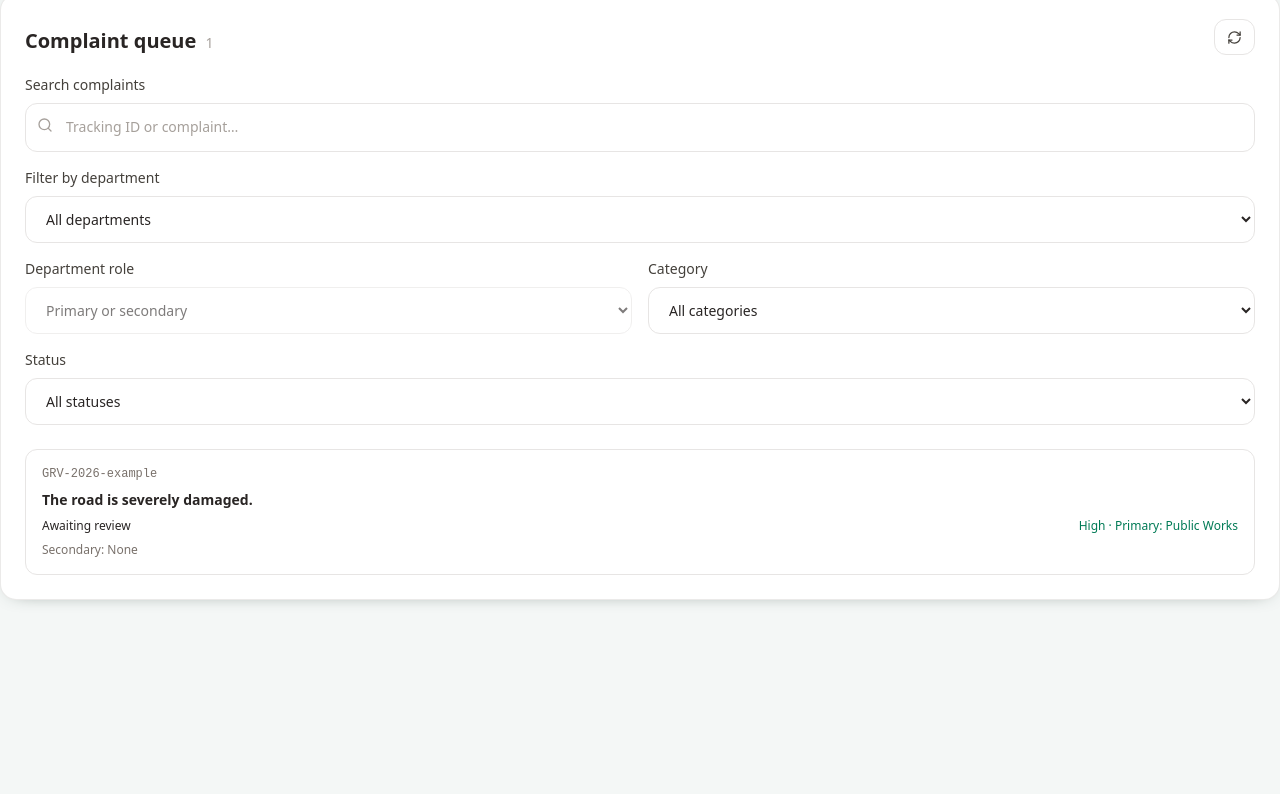
Test: approves routing with version and department then updates the queue
Click the button "GRV-2026-example".
click(640, 512)  # box [25,449,1255,575]
(page scrolled)
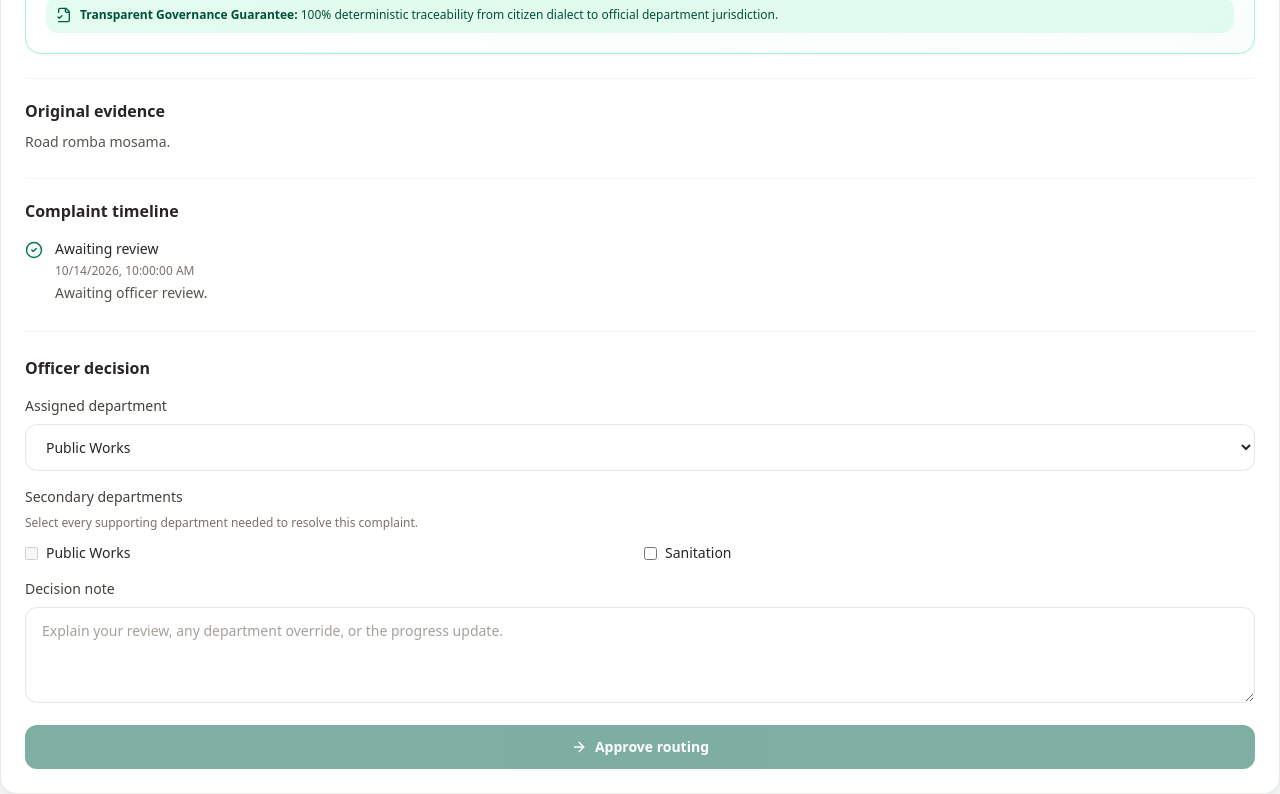
Type "Reviewed and approved road repair." into the text box labelled "Decision note".
click(640, 655); type("Reviewed and approved road repair.")  # box [25,607,1255,703]
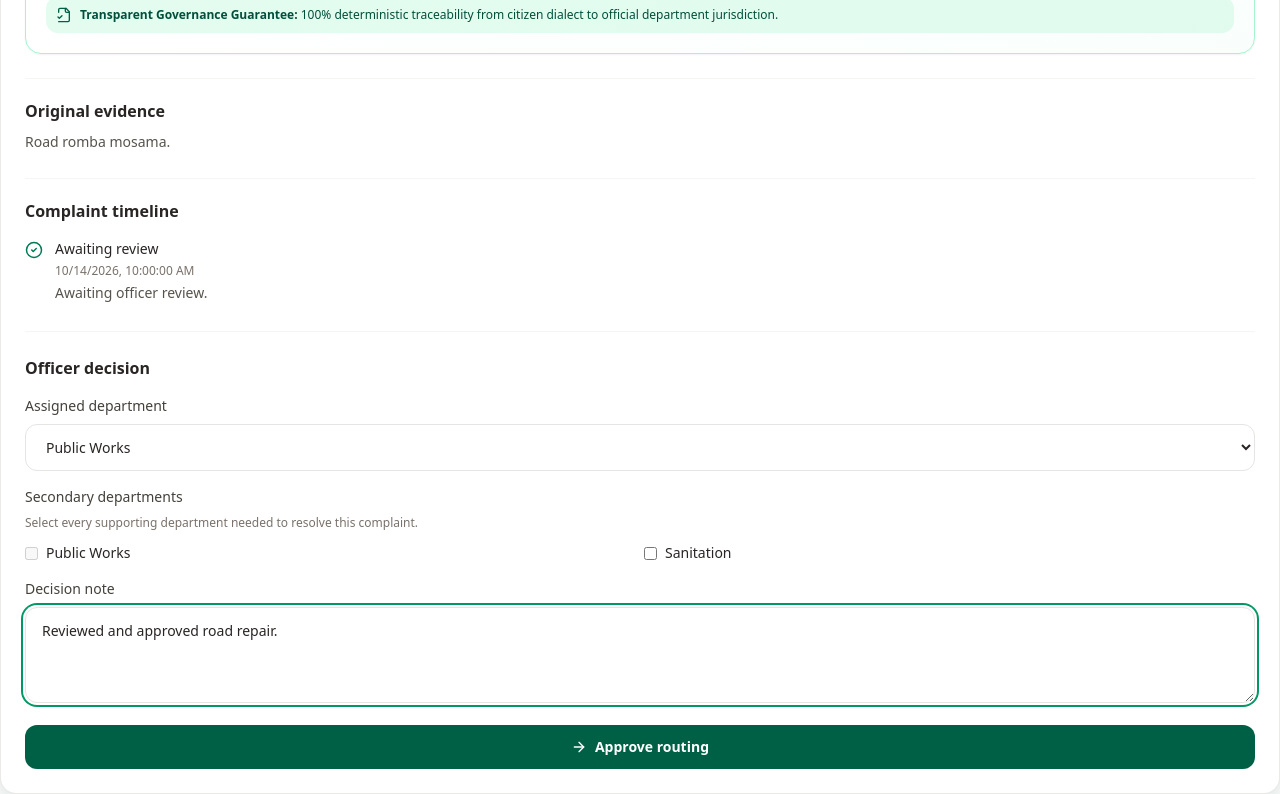
Click the button "Approve routing".
click(640, 747)  # box [25,725,1255,769]
(page scrolled)
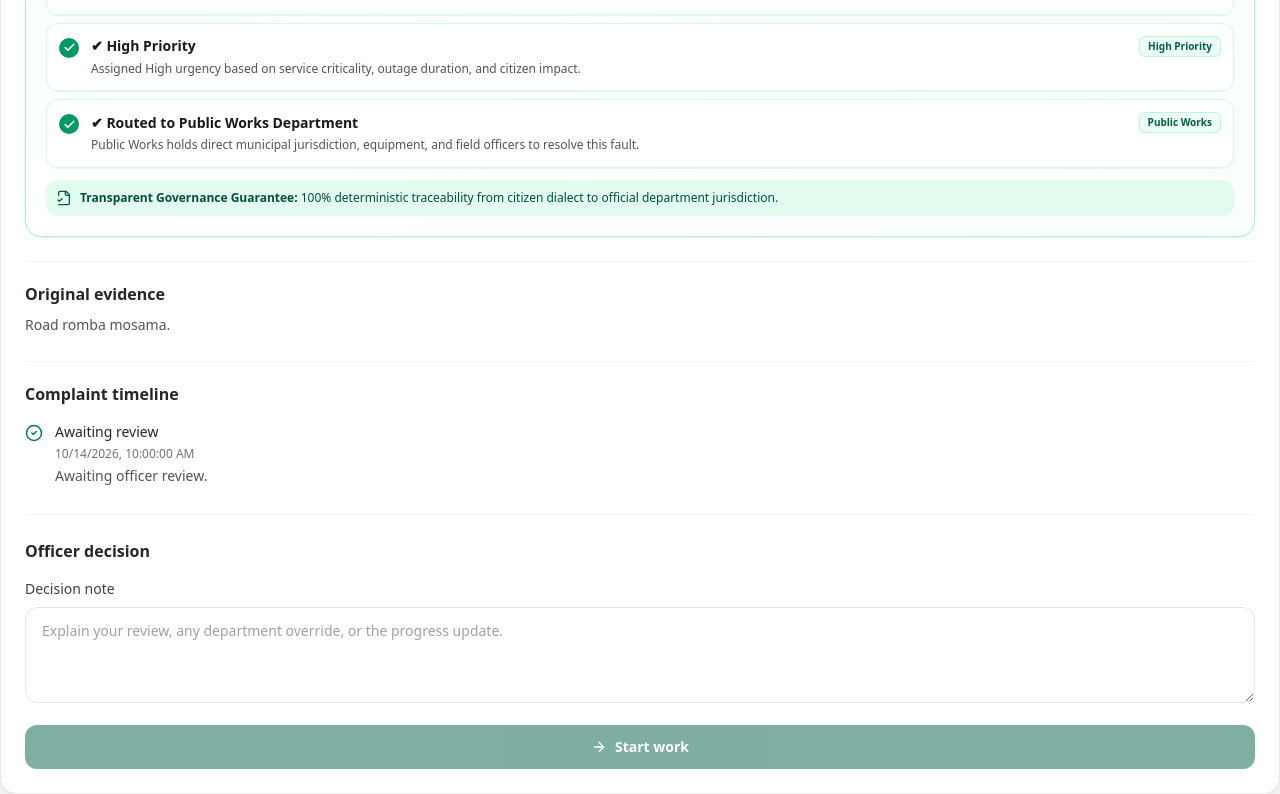
Expected: the button "Start work" is shown, [25,725,1255,769]
